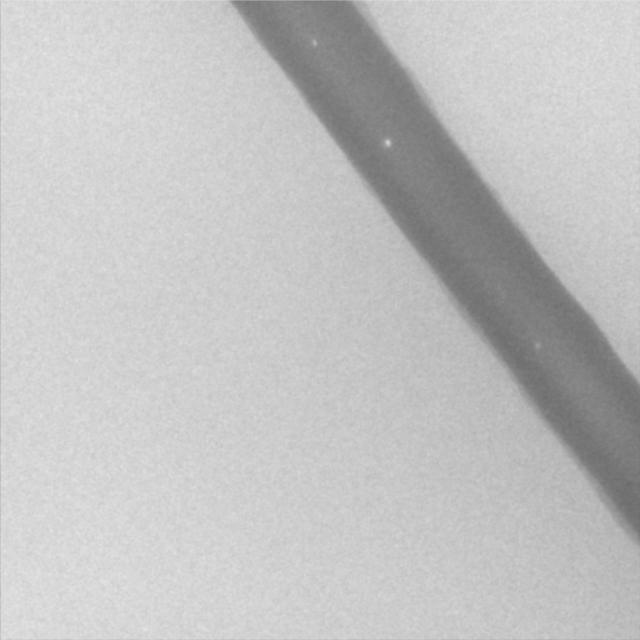air hole: (382, 137, 392, 148), (309, 37, 317, 47)
